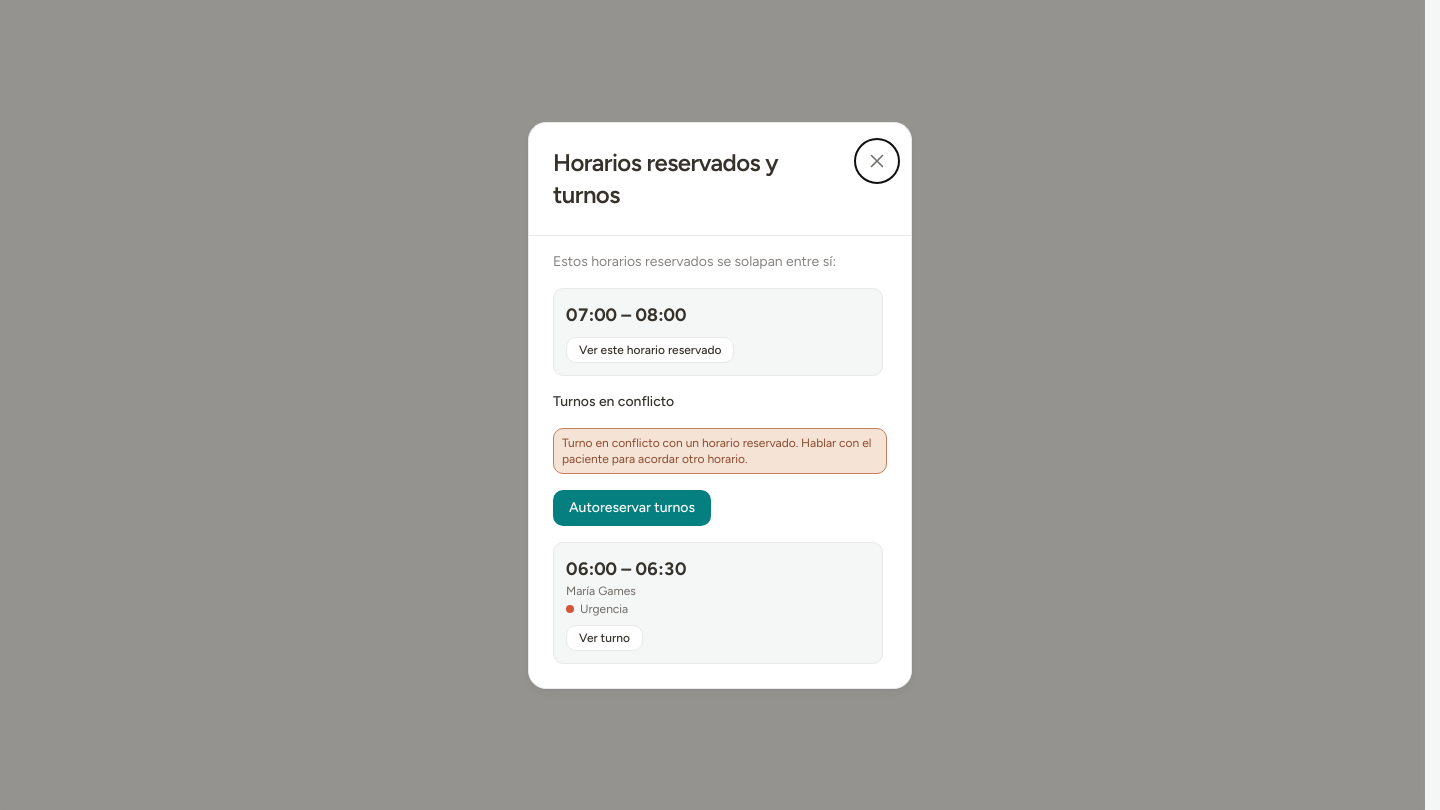
Test: BloqueoDetalleModal › autoreservar turnos › un turno sin hueco libre se muestra sin horario nuevo, no como si se hubiera movido
The image size is (1440, 810).
Click the button "Autoreservar turnos" at [632, 508], box [553,490,711,526]
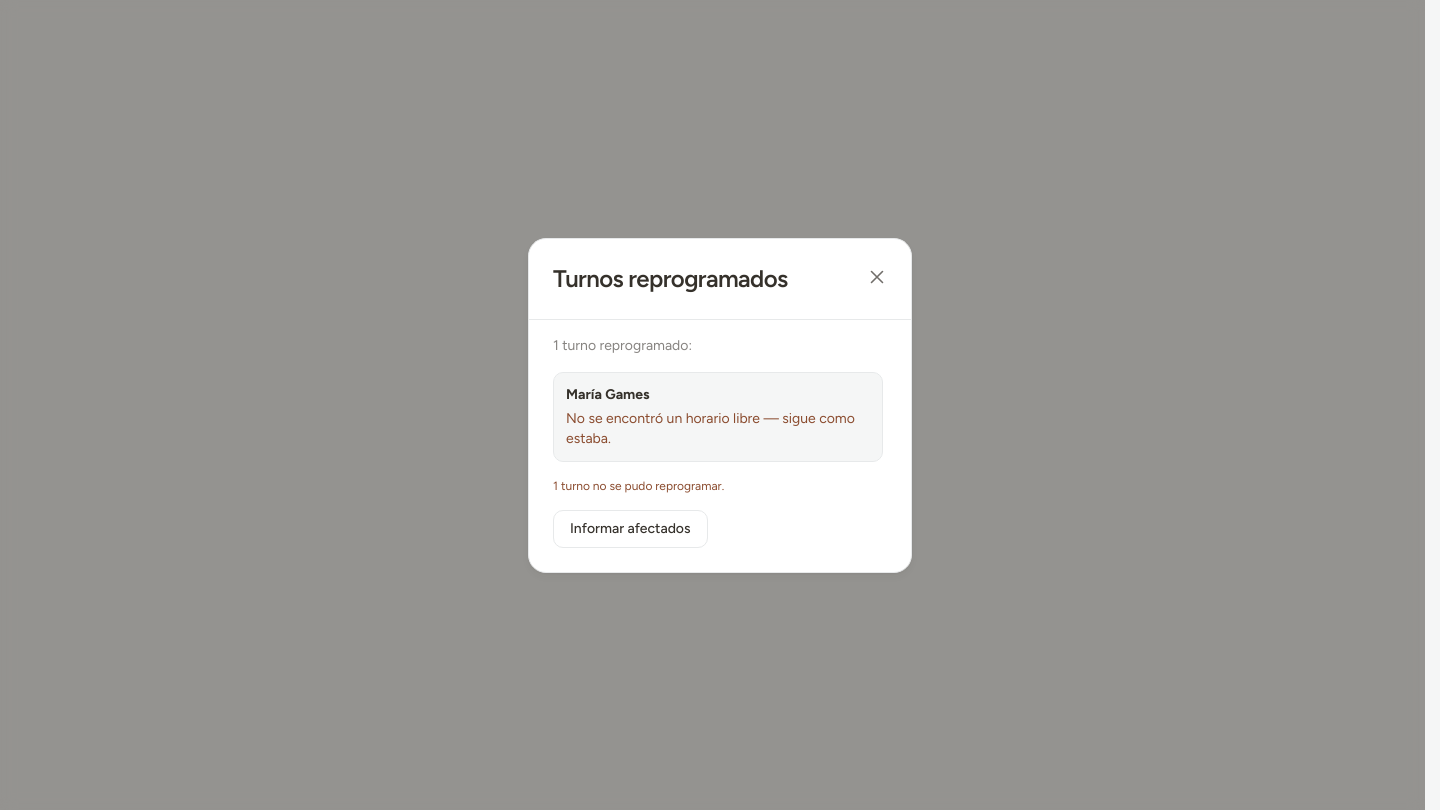
Expected: the text "No se encontró un horario libre — sigue como estaba." is shown, [566,408,870,448]
Expected: the text "1 turno no se pudo reprogramar." is shown, [553,478,724,492]
